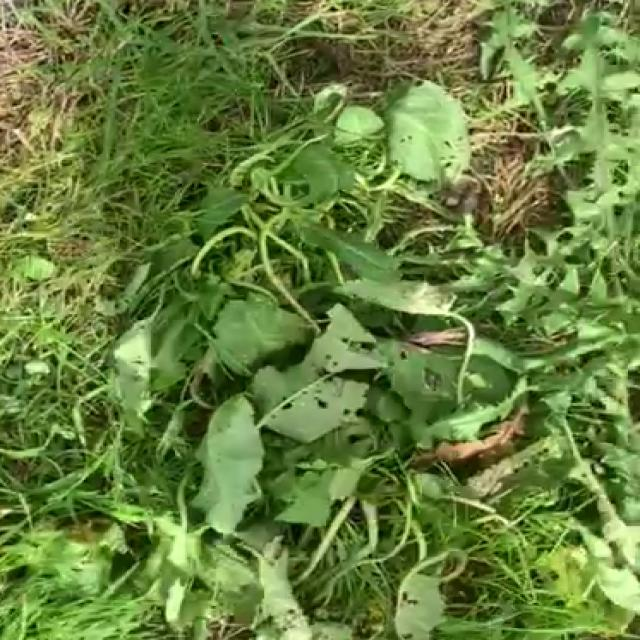organic waste: (91, 258, 494, 524), (156, 116, 630, 330)
